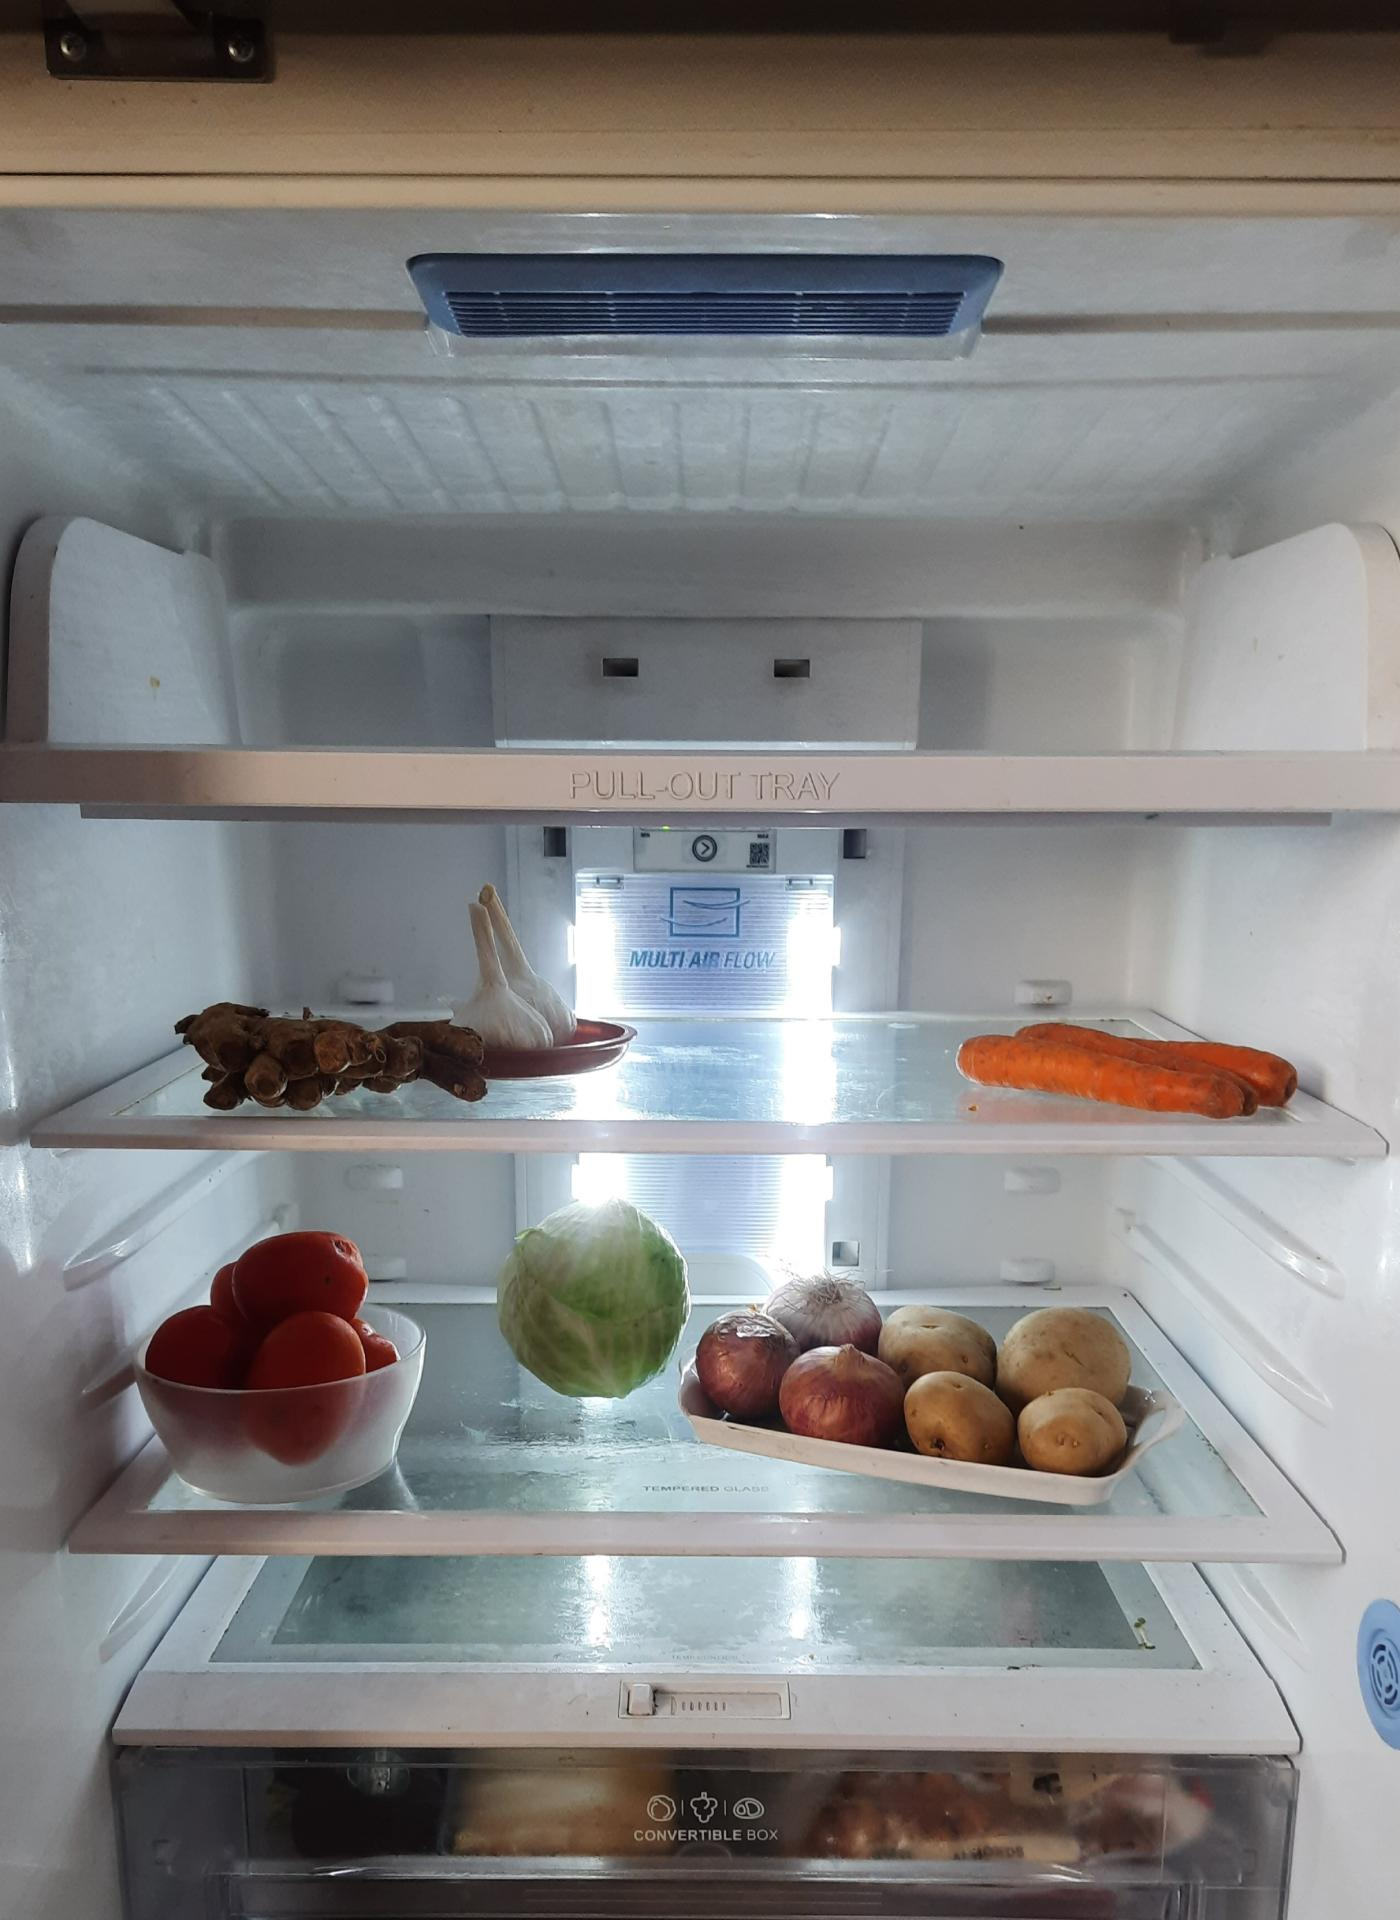cabbage: (502, 1194, 690, 1397)
carrots: (960, 1015, 1311, 1115)
garlic: (459, 872, 599, 1048)
ginger: (182, 1000, 495, 1111)
onion: (689, 1276, 904, 1450)
potato: (871, 1294, 1136, 1471)
tomato: (136, 1221, 410, 1464)
